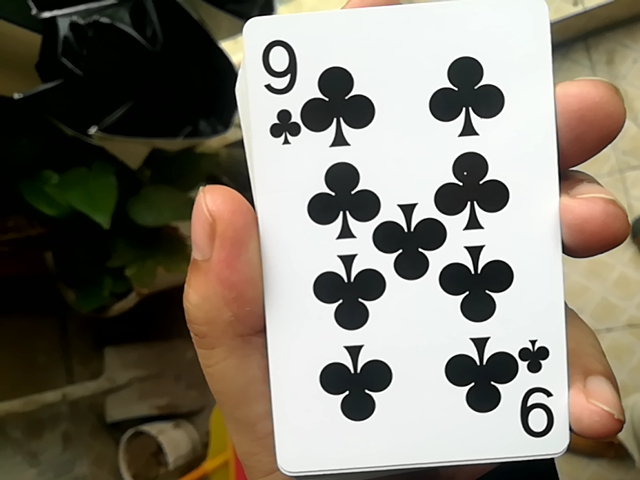mh 9: (231, 12, 572, 475)
